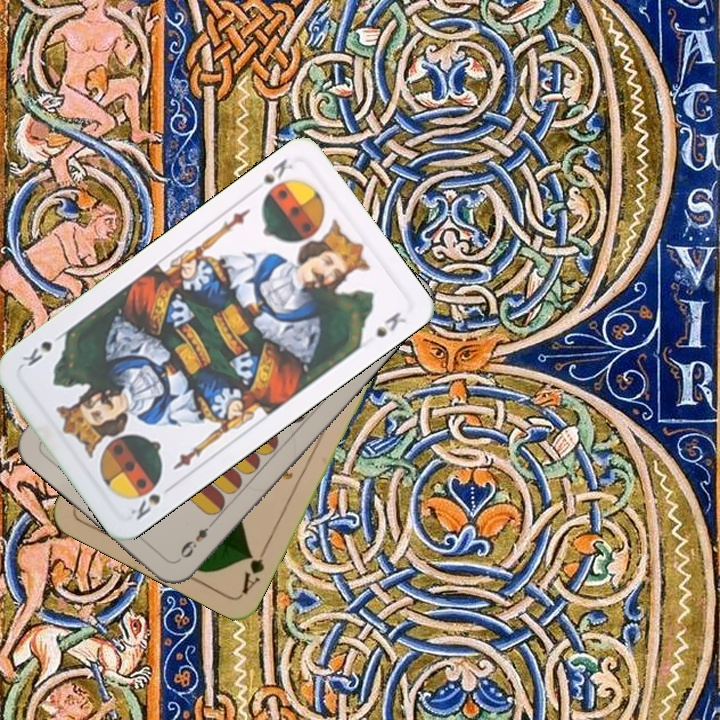E9: (173, 516, 218, 563)
GA: (238, 541, 270, 597)
SK: (247, 154, 296, 203), (126, 489, 163, 523)
